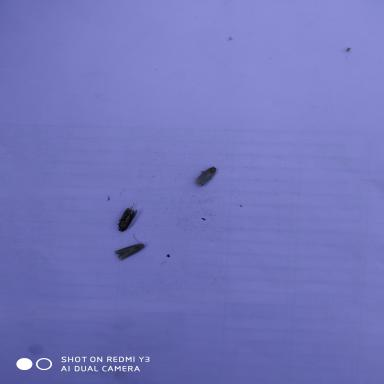pbw: (114, 234, 144, 261), (118, 202, 138, 232), (195, 166, 218, 186)
